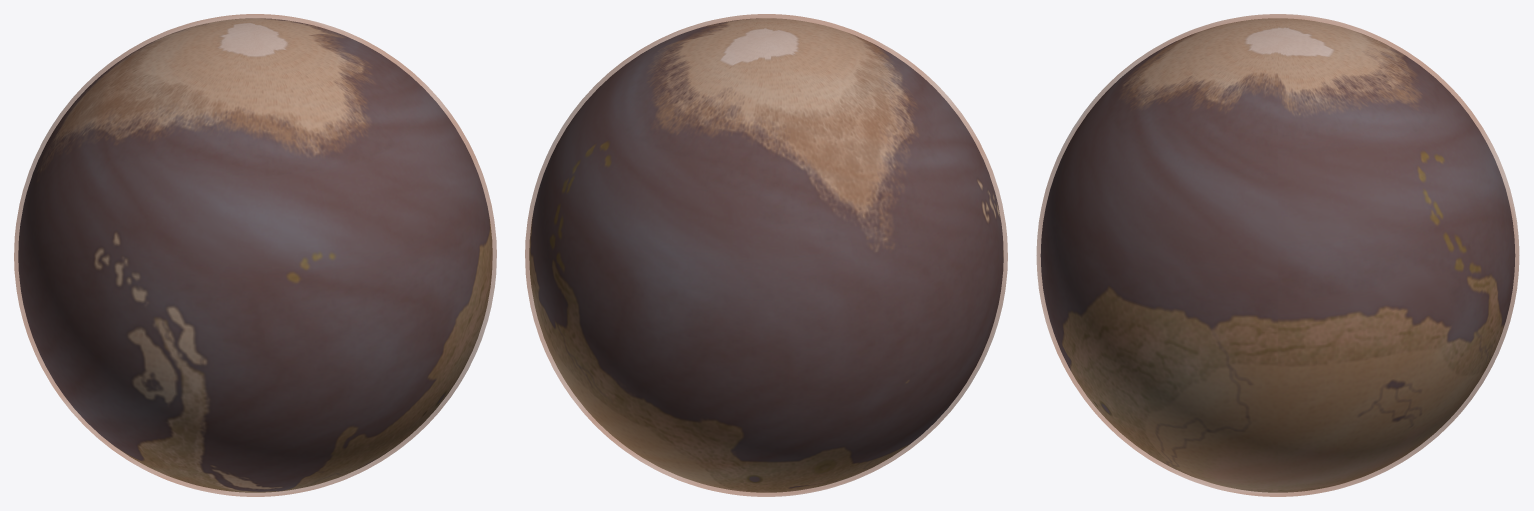
File: aaa.fbx
3 renders of one model, left to right at view 1: azimuth 30°, elevation 25°; view 2: azimuth 150°, elevation 25°; view 3: azimuth 270°, elevation 25°, orthographic.
Parts seen in each view (by area): view 1: Nubes, Esfera; view 2: Nubes, Esfera; view 3: Nubes, Esfera.
Boxes of the visible parts, x1,y1,x2,y2 form: Nubes: (14,14,496,496); Esfera: (18,18,492,492); Nubes: (525,14,1007,496); Esfera: (529,18,1003,492); Nubes: (1036,14,1519,496); Esfera: (1040,18,1515,492).
Bounding box in the file's own units: 2036 × 2036 × 2036.
Materials: 2 (2 with a texture image).
